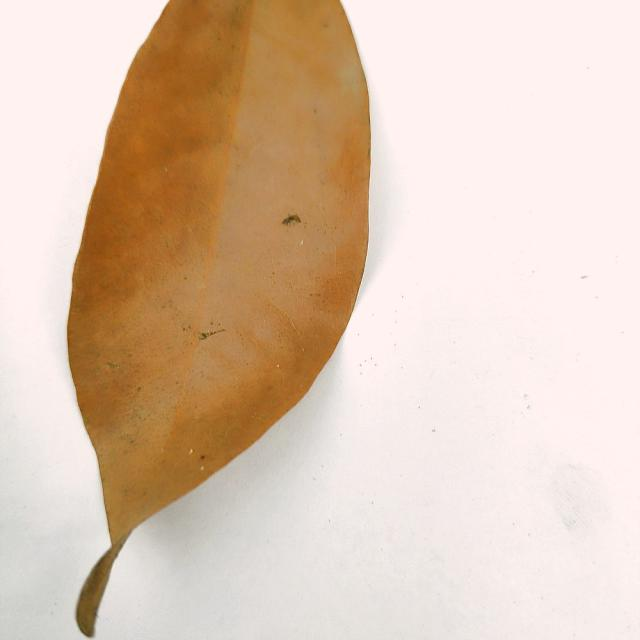Dry_Leaf-Lychee: (64, 0, 373, 639)
